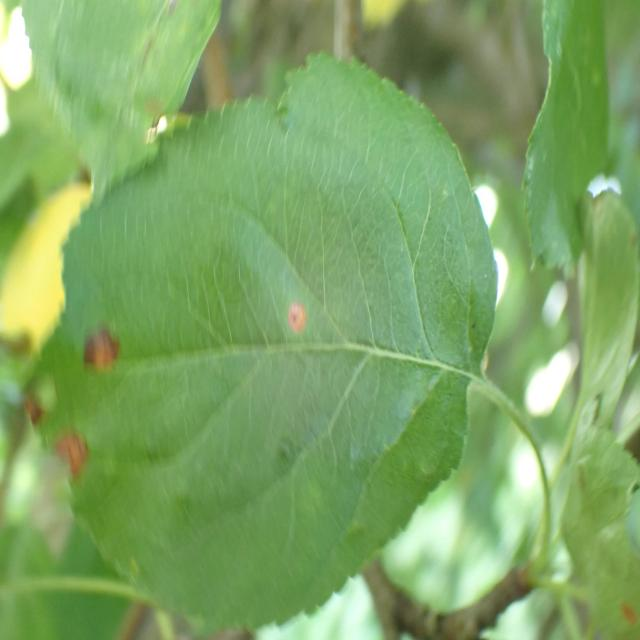Black Rot: (18, 378, 108, 476), (58, 316, 139, 394), (275, 280, 319, 376)
